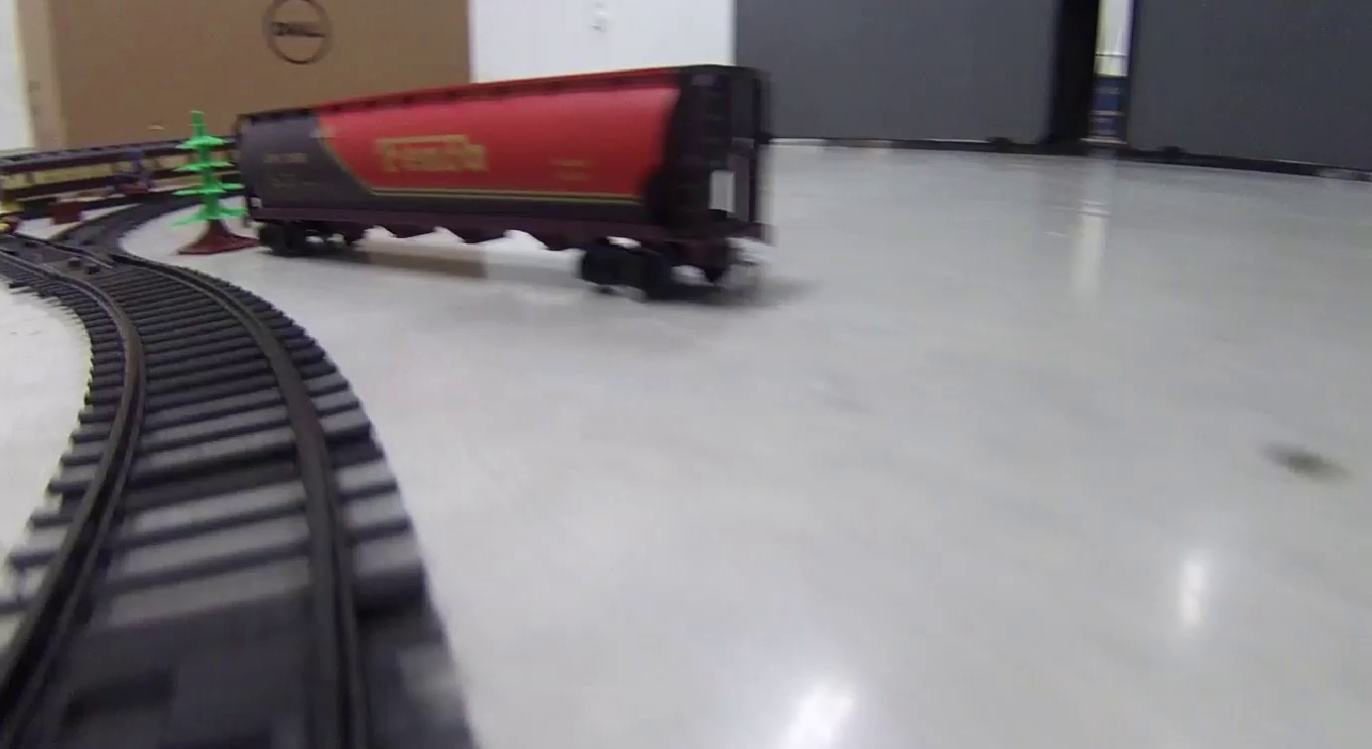tree: (170, 109, 249, 253)
